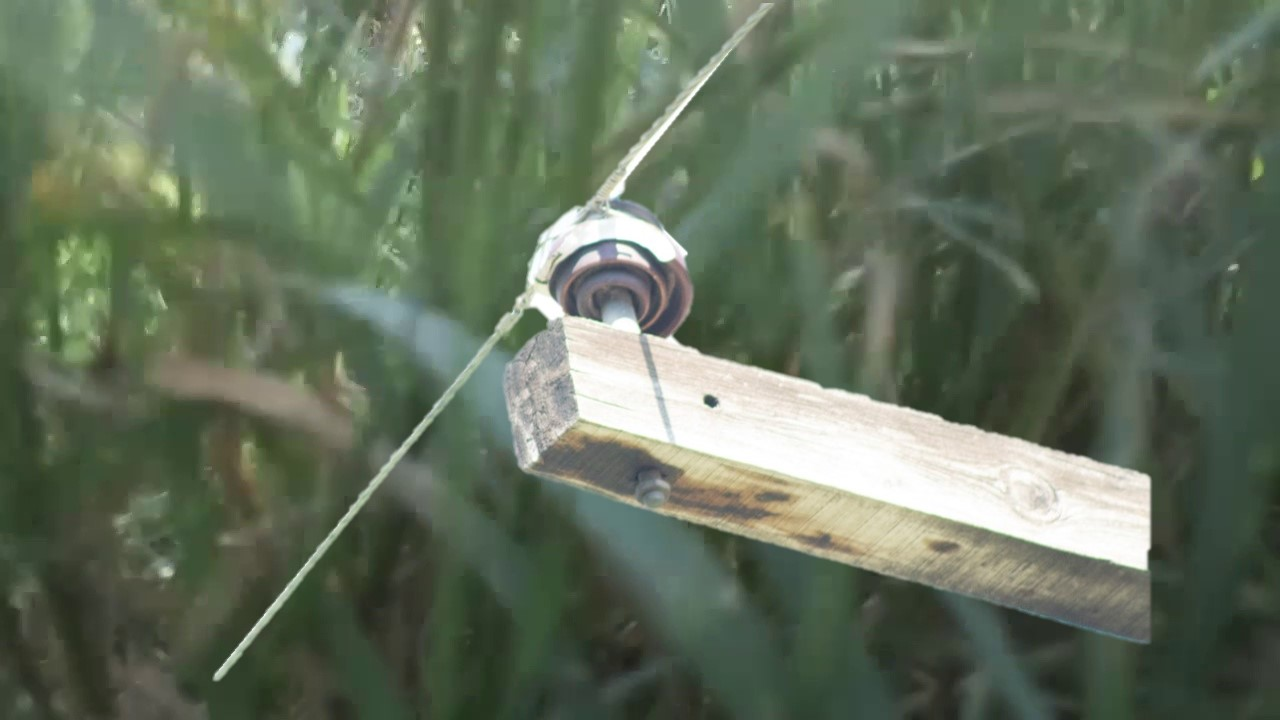defect_pin: (523, 192, 697, 341)
